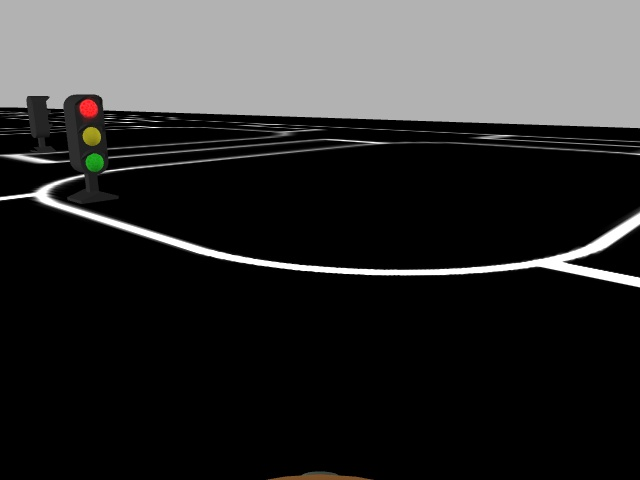red_light: (68, 92, 109, 176)
